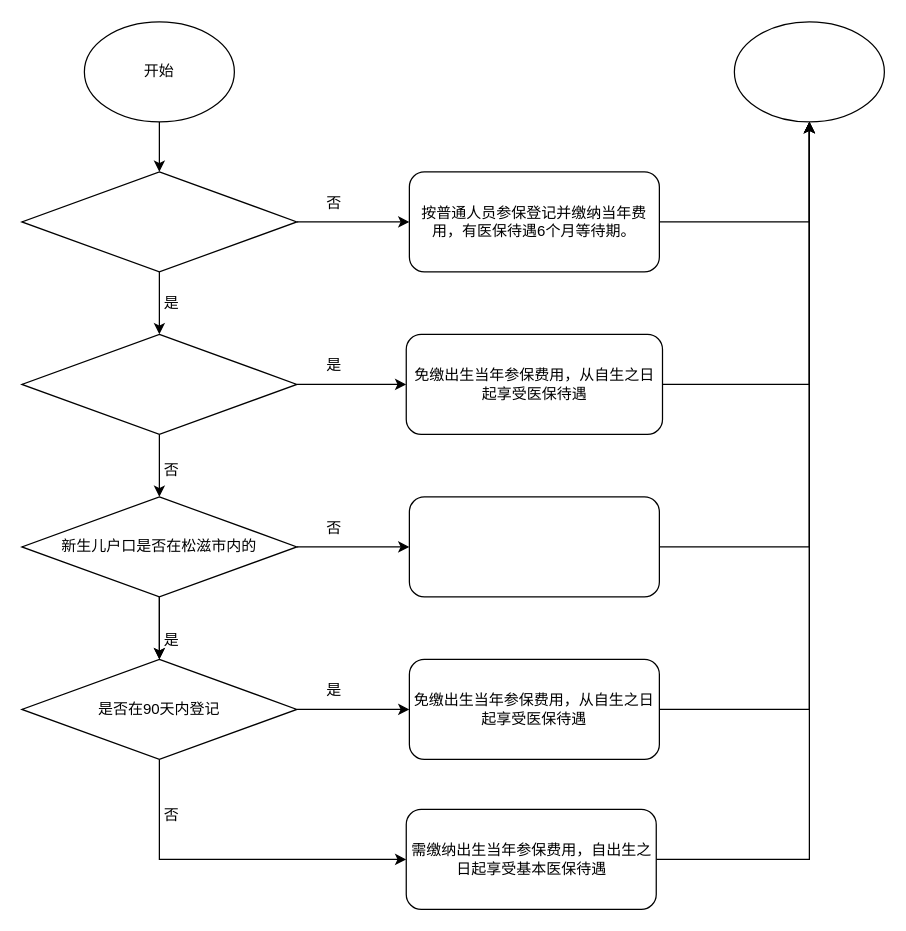
This 906x931 diagram has some shape labels left out. Here are the shapes that lost their labels. From the top down, the centre of each, then its label:
At point (808, 71): "结束".
At point (159, 221): "是否当年出生".
At point (159, 383): "父母任意一方当年 是否在荆州市内参加医疗保险并 按规定缴费出生".
At point (533, 546): "缴纳当年费用，与普通人员一样有医保待遇6个月等待期。".
